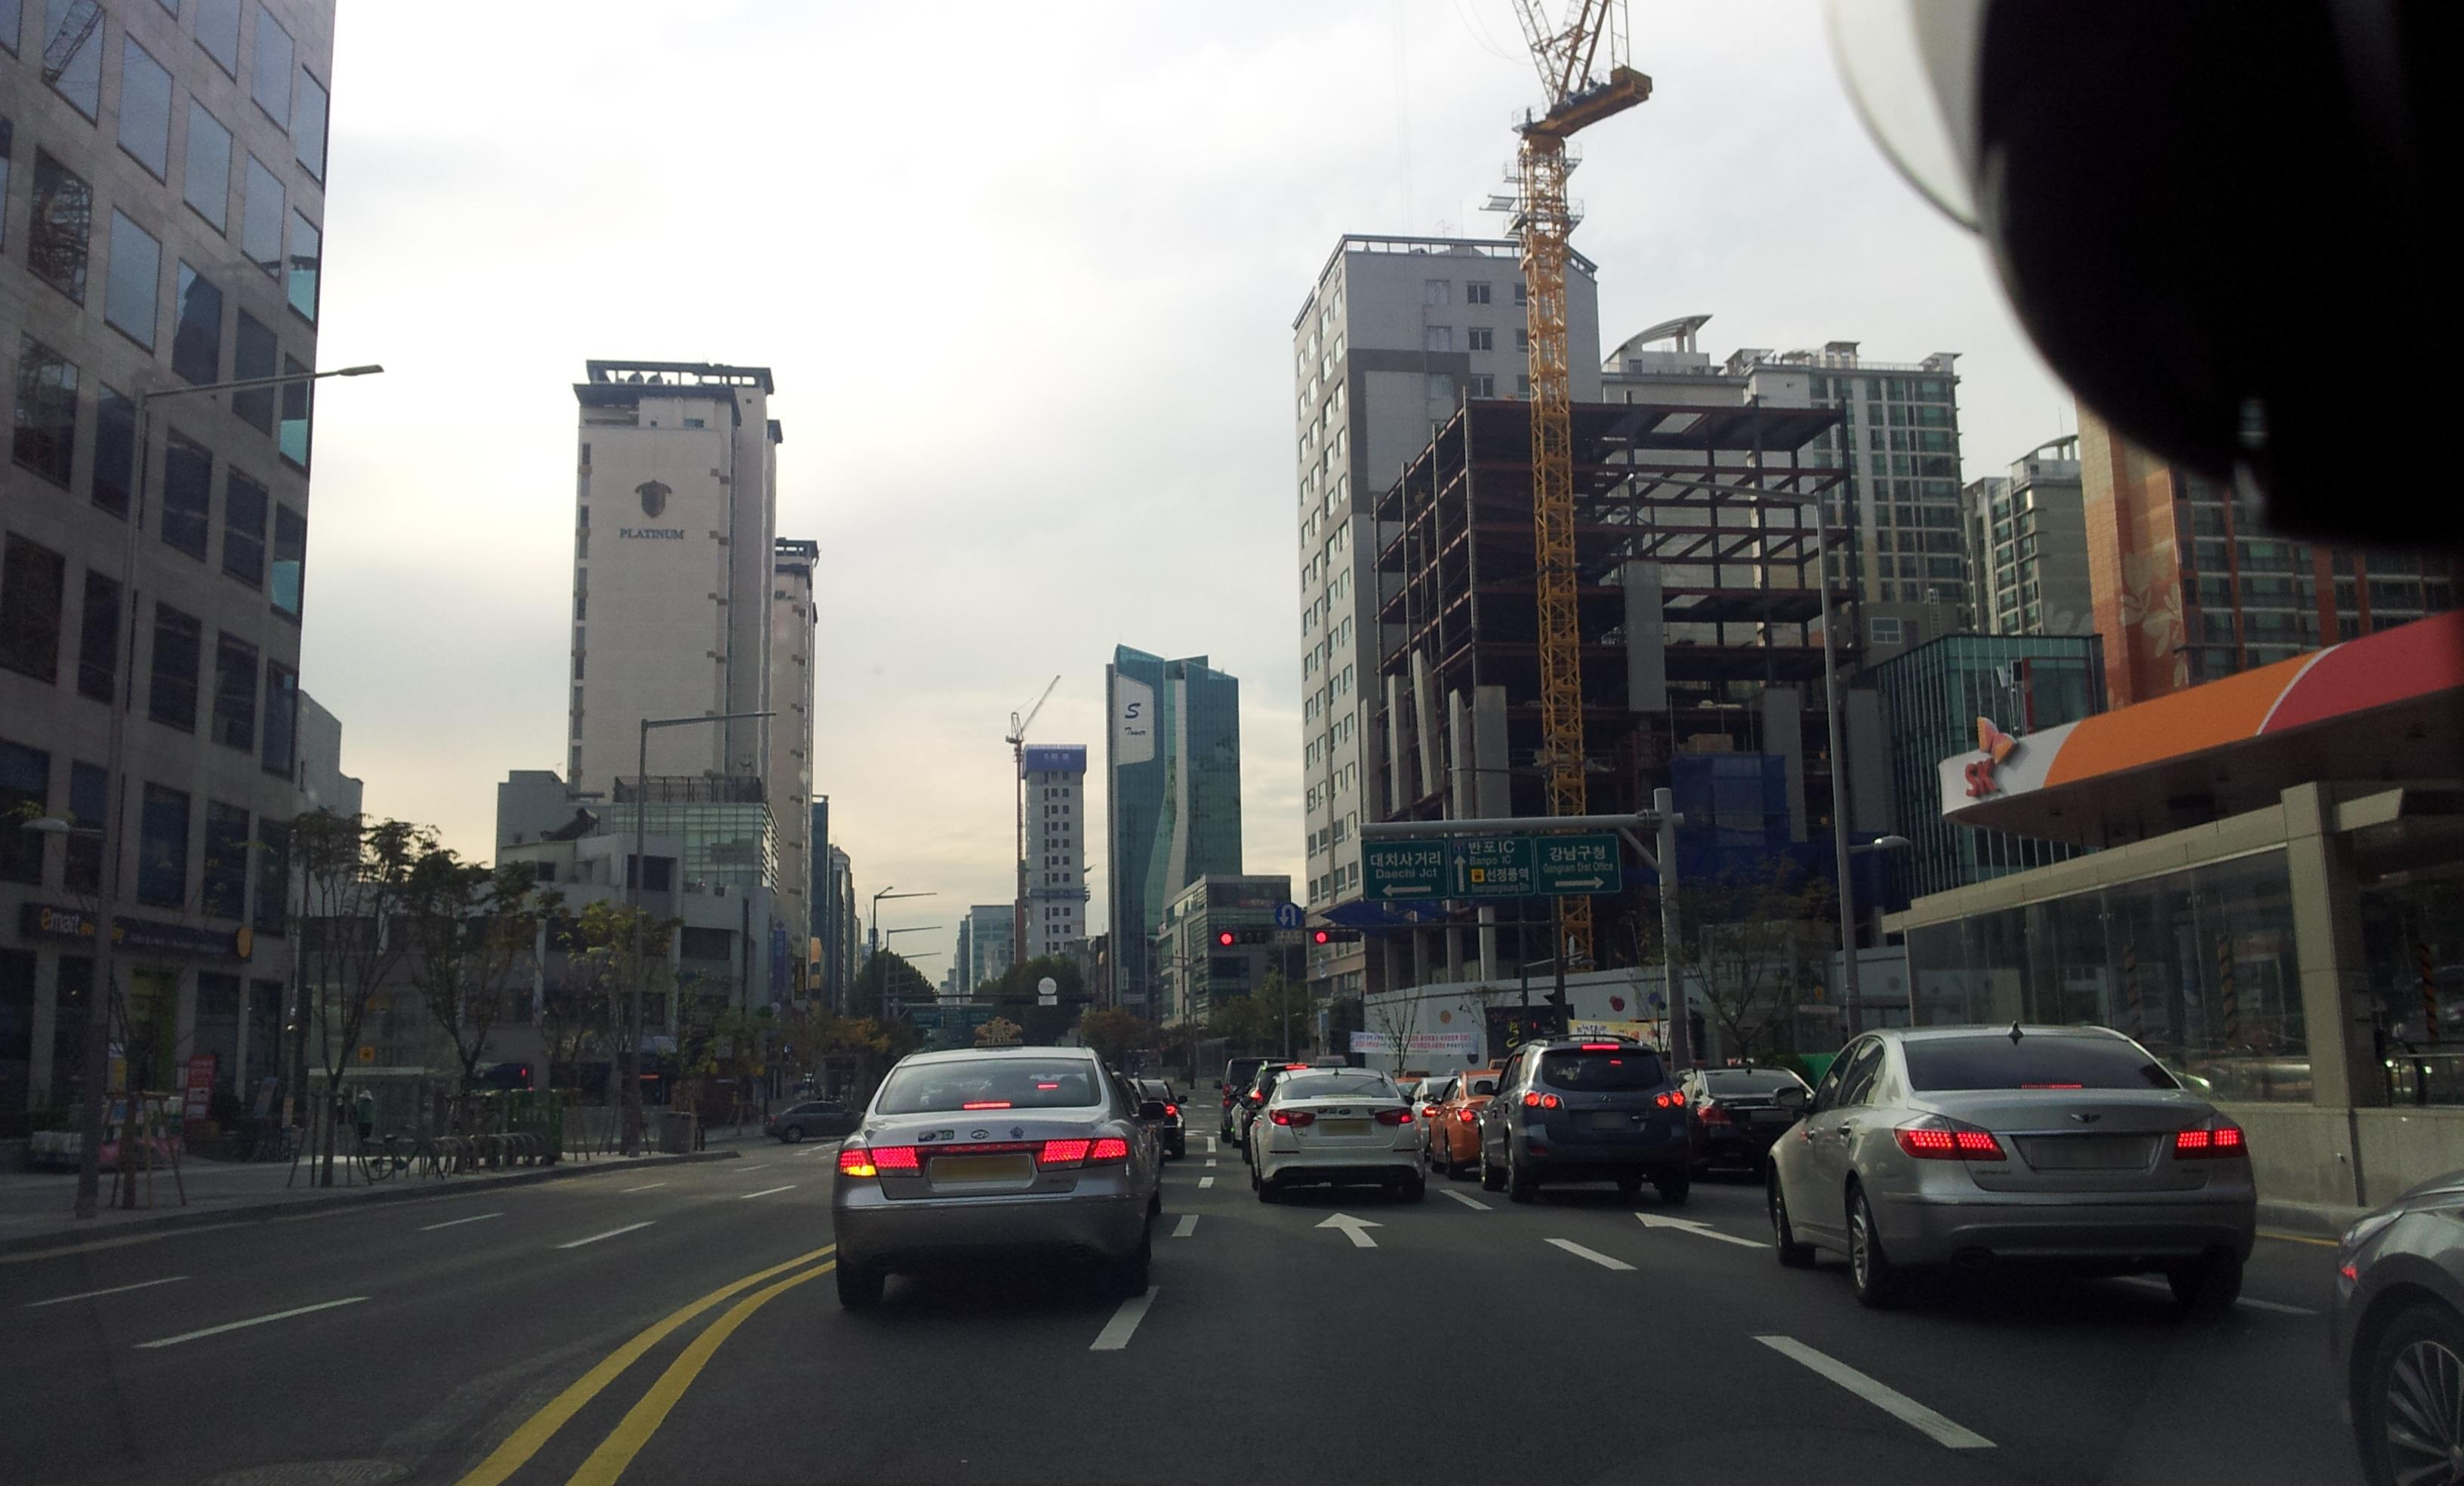vinyl banner: (1556, 1009, 1688, 1062), (1348, 1021, 1485, 1060)
